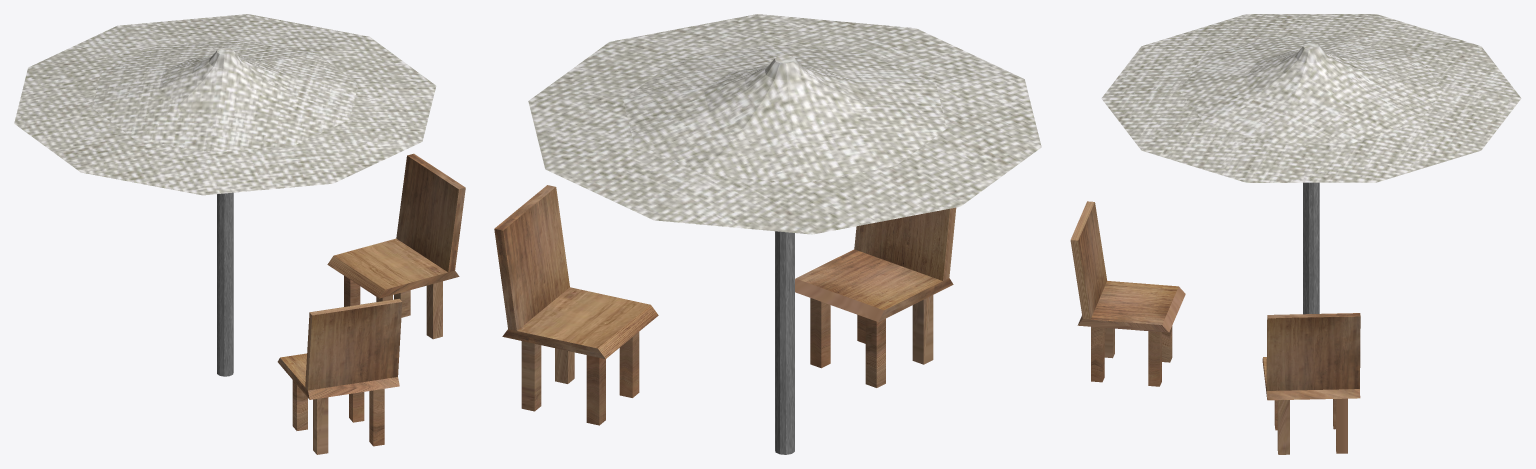
Rendered from umbrellaAndChairs.fbx.
3 renders of one model, left to right at view 1: azimuth 30°, elevation 25°; view 2: azimuth 150°, elevation 25°; view 3: azimuth 270°, elevation 25°, orthographic. The views are drawn at different scales.
Visible parts, largest first — view 1: Cylinder, Cube.001, Cube; view 2: Cylinder, Cube, Cube.001; view 3: Cylinder, Cube, Cube.001.
Part boxes in pixels (<box>): Cylinder: <box>14,14,436,376</box>; Cube.001: <box>277,298,402,454</box>; Cube: <box>327,153,465,339</box>; Cylinder: <box>528,14,1041,454</box>; Cube: <box>494,185,658,425</box>; Cube.001: <box>795,207,956,387</box>; Cylinder: <box>1101,14,1521,314</box>; Cube: <box>1262,313,1360,454</box>; Cube.001: <box>1070,201,1185,386</box>.
Size of the model in its own units: 290 by 225 by 294.
Materials: 3 (3 with a texture image).
